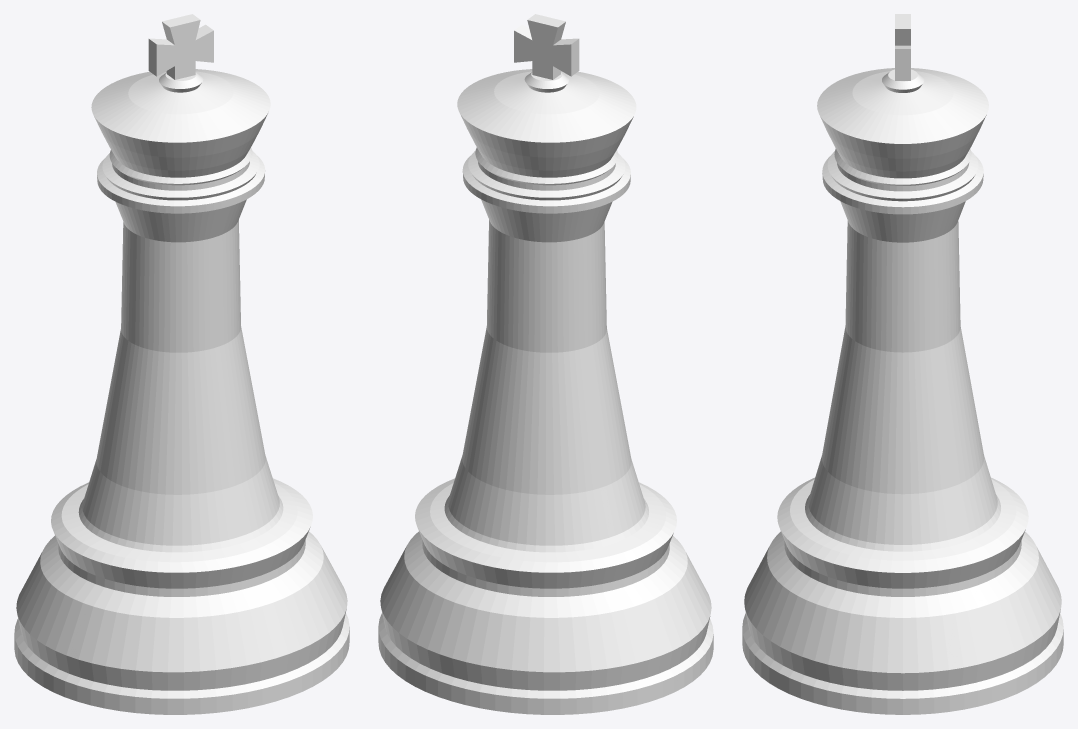
The model's file is KingW.glb.
3 renders of one model, left to right at view 1: azimuth 30°, elevation 25°; view 2: azimuth 150°, elevation 25°; view 3: azimuth 270°, elevation 25°, orthographic.
Parts seen in each view (by area): view 1: RookA8; view 2: RookA8; view 3: RookA8.
Part boxes in pixels (box(x1,y1,x2,y2)): RookA8: box(14, 14, 349, 714); RookA8: box(378, 14, 713, 714); RookA8: box(742, 14, 1063, 714).
Size of the model in its own units: 1.05 by 2.13 by 0.9981.
Materials: 1 (1 with a texture image).
